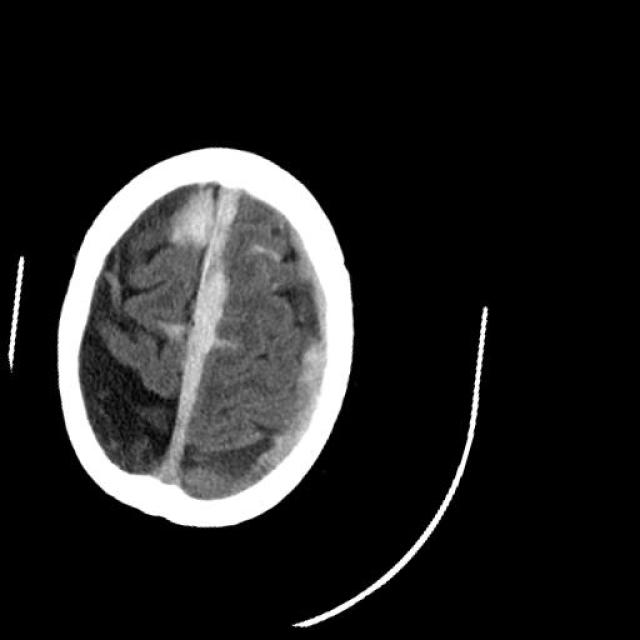Intraparenchymal: (150, 170, 230, 260)
Subarachnoid: (126, 306, 198, 366), (245, 232, 299, 282), (201, 322, 249, 367)
Subdural: (221, 235, 369, 529), (137, 179, 264, 486)
